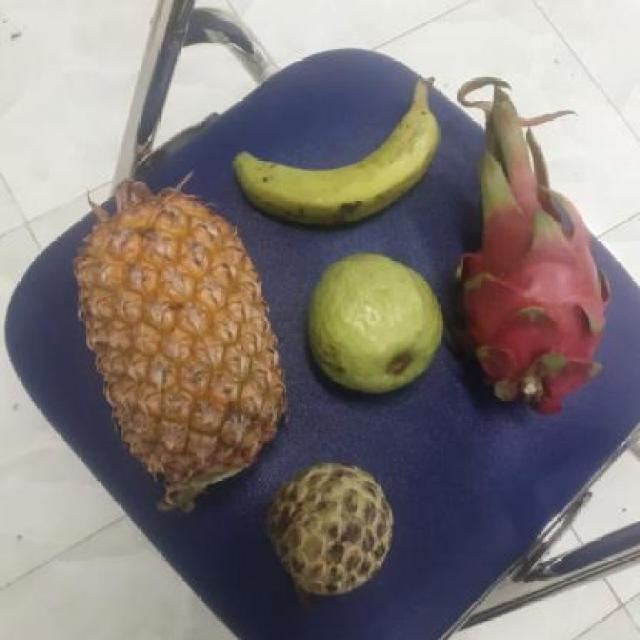banana: (229, 88, 434, 228)
dragon fruit: (444, 174, 611, 408)
guava: (299, 257, 446, 392)
pineapple: (70, 182, 281, 502)
sugar apple: (260, 458, 394, 598)
